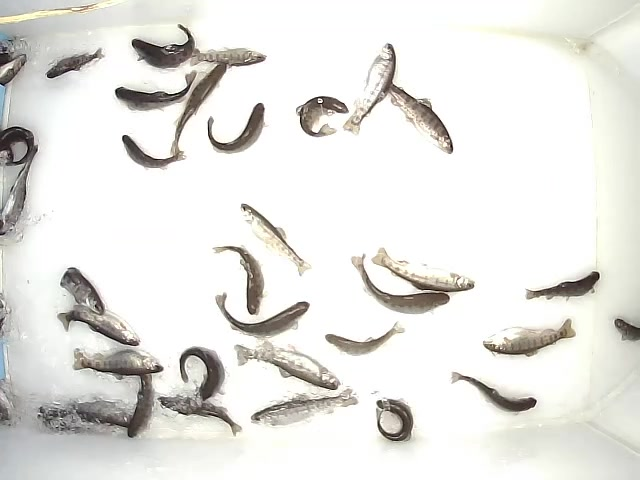fish: (374, 71, 454, 156), (350, 251, 451, 316), (169, 61, 228, 158), (234, 341, 345, 391), (240, 202, 312, 277), (342, 42, 396, 136), (370, 246, 476, 292), (214, 291, 311, 341), (250, 388, 359, 430), (450, 371, 538, 416), (212, 246, 268, 316), (482, 318, 577, 358), (157, 394, 242, 437), (57, 304, 141, 347), (115, 70, 197, 113), (1, 145, 38, 238), (207, 102, 270, 155), (71, 346, 164, 381), (324, 321, 406, 356), (179, 346, 228, 401), (121, 134, 187, 172), (524, 270, 600, 303), (127, 354, 156, 439), (294, 96, 350, 138), (59, 266, 106, 316), (130, 39, 200, 70), (45, 47, 106, 80), (189, 46, 268, 70), (375, 398, 414, 443)
